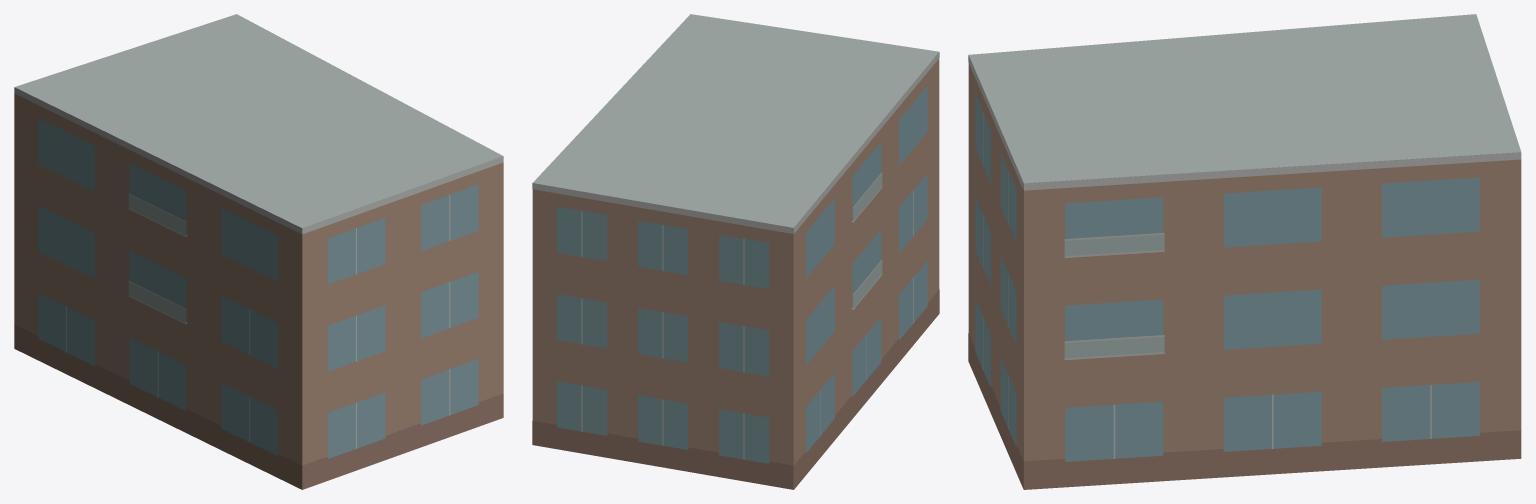
File: survey-upis-32492642.glb
The picture shows the model from 3 angles, left to right: view 1: azimuth 30°, elevation 25°; view 2: azimuth 150°, elevation 25°; view 3: azimuth 270°, elevation 25°; orthographic projection. The views are drawn at different scales.
Parts seen in each view (by area): view 1: survey-upis-32492642.tmp; view 2: survey-upis-32492642.tmp; view 3: survey-upis-32492642.tmp.
Boxes of the visible parts, x1,y1,x2,y2 form: survey-upis-32492642.tmp: [14, 14, 503, 489]; survey-upis-32492642.tmp: [532, 14, 939, 489]; survey-upis-32492642.tmp: [968, 14, 1521, 489].
Bounding box in the file's own units: 12.22 × 10.3 × 16.85.
